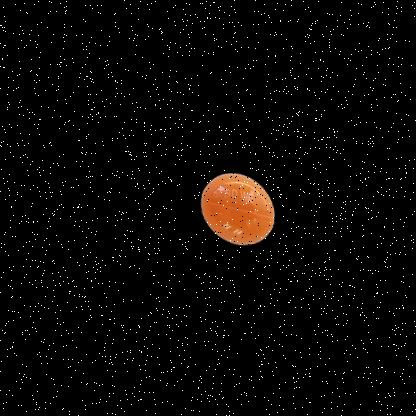welood: (178, 146, 304, 279)
